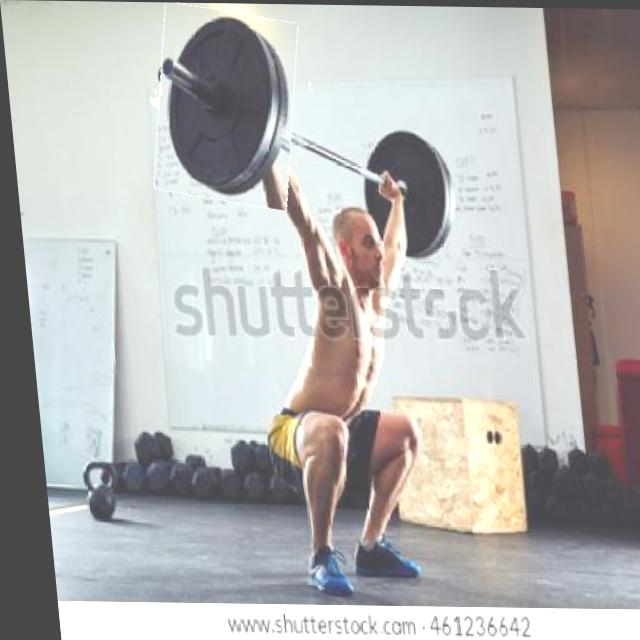barbell: (144, 6, 305, 207)
